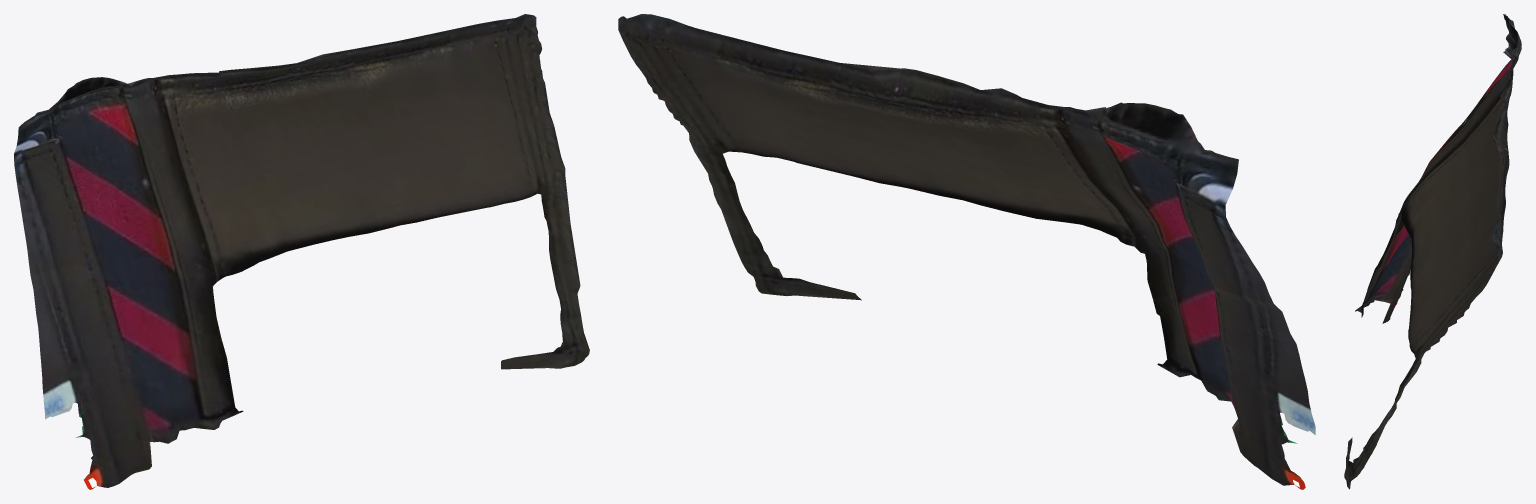
Rendered from observed-surface.glb.
3 renders of one model, left to right at view 1: azimuth 30°, elevation 25°; view 2: azimuth 150°, elevation 25°; view 3: azimuth 270°, elevation 25°, orthographic. The views are drawn at different scales.
Visible parts, largest first — view 1: geometry_0; view 2: geometry_0; view 3: geometry_0.
Boxes of the visible parts, bbox=[...] form: geometry_0: bbox=[14, 14, 589, 489]; geometry_0: bbox=[618, 14, 1315, 489]; geometry_0: bbox=[1344, 14, 1521, 489].
Size of the model in its own units: 0.6209 by 0.3907 by 0.1976.
1 material, 1 textured.
